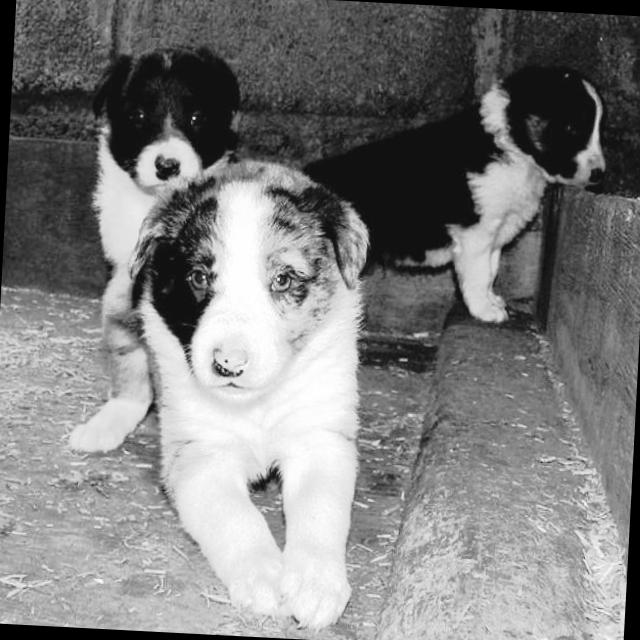Dog: (63, 148, 418, 637), (313, 30, 619, 318), (70, 29, 252, 292)
